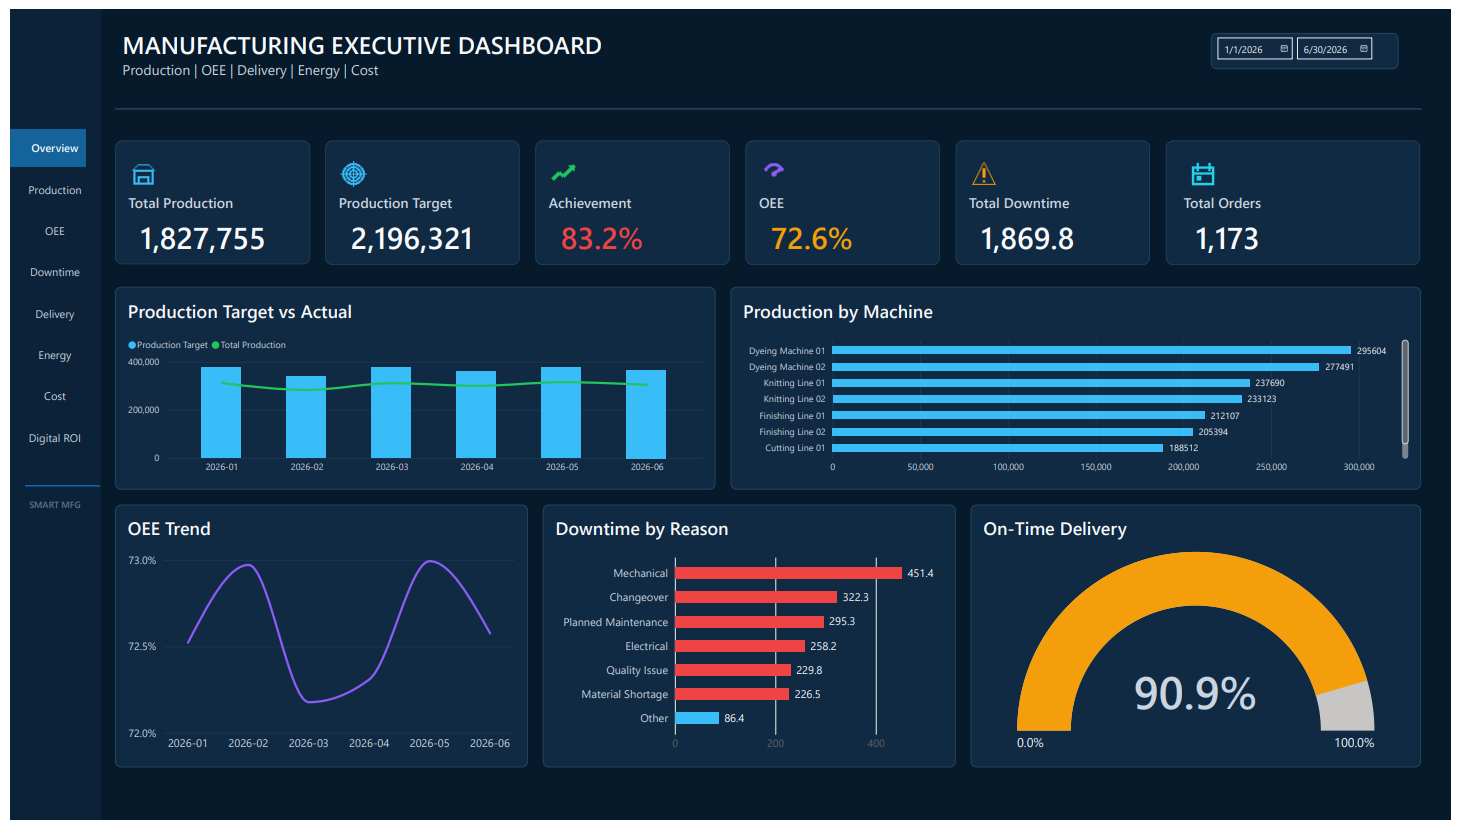

What the dashboard file says about the page in this screenshot:
{"tool":"powerbi","page":{"name":"Overview","canvas":[1920,1080],"ordinal":0},"visuals":[{"type":"textbox","box":[150,25,900,85],"z":0},{"type":"shape","box":[140,175,260,165],"z":0,"group":"g6"},{"type":"shape","box":[420,175,259.3,165.7],"z":0,"group":"g5"},{"type":"shape","box":[700,175,259.3,165.7],"z":0,"group":"g4"},{"type":"shape","box":[980,175,259.3,165.7],"z":0,"group":"g3"},{"type":"shape","box":[1260,175,259.3,165.7],"z":0,"group":"g2"},{"type":"shape","box":[1540,175,339.2,165.7],"z":0,"group":"g1"},{"type":"slicer","fields":{"Values":["Date_Table.Date"]},"box":[1600,32,250,48],"z":1000},{"type":"image","box":[158.2,198,38.3,42],"z":1000,"group":"g6"},{"type":"image","box":[438.2,198.1,38.2,42.2],"z":1000,"group":"g5"},{"type":"image","box":[718.2,198.1,38.2,42.2],"z":1000,"group":"g4"},{"type":"image","box":[998.2,198.1,38.2,42.2],"z":1000,"group":"g3"},{"type":"image","box":[1278.2,198.1,38.2,42.2],"z":1000,"group":"g2"},{"type":"image","box":[1563.8,198.1,50,42.2],"z":1000,"group":"g1"},{"type":"group","id":"g1","title":"Orders","box":[1540,175,340,165],"z":2000},{"type":"textbox","box":[158.2,245,182.5,30],"z":2000,"group":"g6"},{"type":"textbox","box":[438.2,245.3,182,30.1],"z":2000,"group":"g5"},{"type":"textbox","box":[718.2,245.3,182,30.1],"z":2000,"group":"g4"},{"type":"textbox","box":[998.2,245.3,182,30.1],"z":2000,"group":"g3"},{"type":"textbox","box":[1278.2,245.3,182,30.1],"z":2000,"group":"g2"},{"type":"textbox","box":[1563.8,245.3,238,30.1],"z":2000,"group":"g1"},{"type":"group","id":"g2","title":"Downtime","box":[1260,175,260,165],"z":3000},{"type":"cardVisual","fields":{"Data":["_measure.Total Production"]},"box":[158.2,280,209.8,45],"z":3000,"group":"g6"},{"type":"cardVisual","fields":{"Data":["_measure.Production Target"]},"box":[438.2,280.5,209.3,45.2],"z":3000,"group":"g5"},{"type":"cardVisual","fields":{"Data":["_measure.Production Achievement %"]},"box":[718.2,280.5,209.3,45.2],"z":3000,"group":"g4"},{"type":"cardVisual","fields":{"Data":["_measure.OEE %"]},"box":[998.2,280.5,209.3,45.2],"z":3000,"group":"g3"},{"type":"cardVisual","fields":{"Data":["_measure.Total Downtime"]},"box":[1278.2,280.5,209.3,45.2],"z":3000,"group":"g2"},{"type":"cardVisual","fields":{"Data":["_measure.Total Orders"]},"box":[1563.8,280.5,273.7,45.2],"z":3000,"group":"g1"},{"type":"group","id":"g3","title":"OEE","box":[980,175,260,165],"z":4000},{"type":"group","id":"g4","title":"Achievement","box":[700,175,260,165],"z":5000},{"type":"group","id":"g5","title":"Target","box":[420,175,260,165],"z":6000},{"type":"group","id":"g6","title":"Production","box":[140,175,260,165],"z":7000},{"type":"lineClusteredColumnComboChart","title":"Production Target vs Actual","fields":{"Category":["Date_Table.Year Month"],"Y":["_measure.Production Target"],"Y2":["_measure.Total Production"]},"box":[140,370,800,270],"z":8000},{"type":"clusteredBarChart","title":"Production by Machine","fields":{"Category":["Production.Machine Name"],"Y":["_measure.Total Production"]},"box":[960,370,920,270],"z":9000},{"type":"lineChart","title":"OEE Trend","fields":{"Category":["Date_Table.Year Month"],"Y":["_measure.OEE %"]},"box":[140,660,550,350],"z":10000},{"type":"clusteredBarChart","title":"Downtime by Reason","fields":{"Category":["Downtime.Downtime Reason"],"Y":["_measure.Total Downtime"]},"box":[710,660,550,350],"z":11000},{"type":"gauge","title":"On-Time Delivery","fields":{"Y":["_measure.On-Time Delivery %"]},"box":[1280,660,600,350],"z":12000},{"type":"shape","title":"Sidebar Background","box":[0,0,120,1080],"z":13000},{"type":"shape","box":[0,160,100,50],"z":14000},{"type":"textbox","box":[10,174,100,25],"z":15000},{"type":"textbox","box":[10,230,100,25],"z":16000},{"type":"textbox","box":[10,285,100,25],"z":17000},{"type":"textbox","box":[10,340,100,25],"z":18000},{"type":"textbox","box":[10,395,100,25],"z":19000},{"type":"textbox","box":[10,450,100,25],"z":20000},{"type":"textbox","box":[10,505,100,25],"z":21000},{"type":"textbox","box":[10,560,100,25],"z":22000},{"type":"shape","box":[20,625,100,20],"z":23000},{"type":"textbox","box":[10,650,100,25],"z":24000},{"type":"shape","box":[140,106.4,1741.2,53.9],"z":25000}]}

Visuals, with their boxes on the page's 1920x1080 design canvas (x1, y1, x2, y2). These are canvas units, not pixel positions in the 1458x828 screenshot, which may show the page scaled, cropped or inside an application window:
textbox: 150/25/1050/110
shape: 140/175/400/340
shape: 420/175/679/341
shape: 700/175/959/341
shape: 980/175/1239/341
shape: 1260/175/1519/341
shape: 1540/175/1879/341
slicer - Date_Table.Date: 1600/32/1850/80
image: 158/198/196/240
image: 438/198/476/240
image: 718/198/756/240
image: 998/198/1036/240
image: 1278/198/1316/240
image: 1564/198/1614/240
"Orders" group: 1540/175/1880/340
textbox: 158/245/341/275
textbox: 438/245/620/275
textbox: 718/245/900/275
textbox: 998/245/1180/275
textbox: 1278/245/1460/275
textbox: 1564/245/1802/275
"Downtime" group: 1260/175/1520/340
cardVisual - _measure.Total Production: 158/280/368/325
cardVisual - _measure.Production Target: 438/280/648/326
cardVisual - _measure.Production Achievement %: 718/280/928/326
cardVisual - _measure.OEE %: 998/280/1208/326
cardVisual - _measure.Total Downtime: 1278/280/1488/326
cardVisual - _measure.Total Orders: 1564/280/1838/326
"OEE" group: 980/175/1240/340
"Achievement" group: 700/175/960/340
"Target" group: 420/175/680/340
"Production" group: 140/175/400/340
"Production Target vs Actual" lineClusteredColumnComboChart: 140/370/940/640
"Production by Machine" clusteredBarChart: 960/370/1880/640
"OEE Trend" lineChart: 140/660/690/1010
"Downtime by Reason" clusteredBarChart: 710/660/1260/1010
"On-Time Delivery" gauge: 1280/660/1880/1010
"Sidebar Background" shape: 0/0/120/1080
shape: 0/160/100/210
textbox: 10/174/110/199
textbox: 10/230/110/255
textbox: 10/285/110/310
textbox: 10/340/110/365
textbox: 10/395/110/420
textbox: 10/450/110/475
textbox: 10/505/110/530
textbox: 10/560/110/585
shape: 20/625/120/645
textbox: 10/650/110/675
shape: 140/106/1881/160
